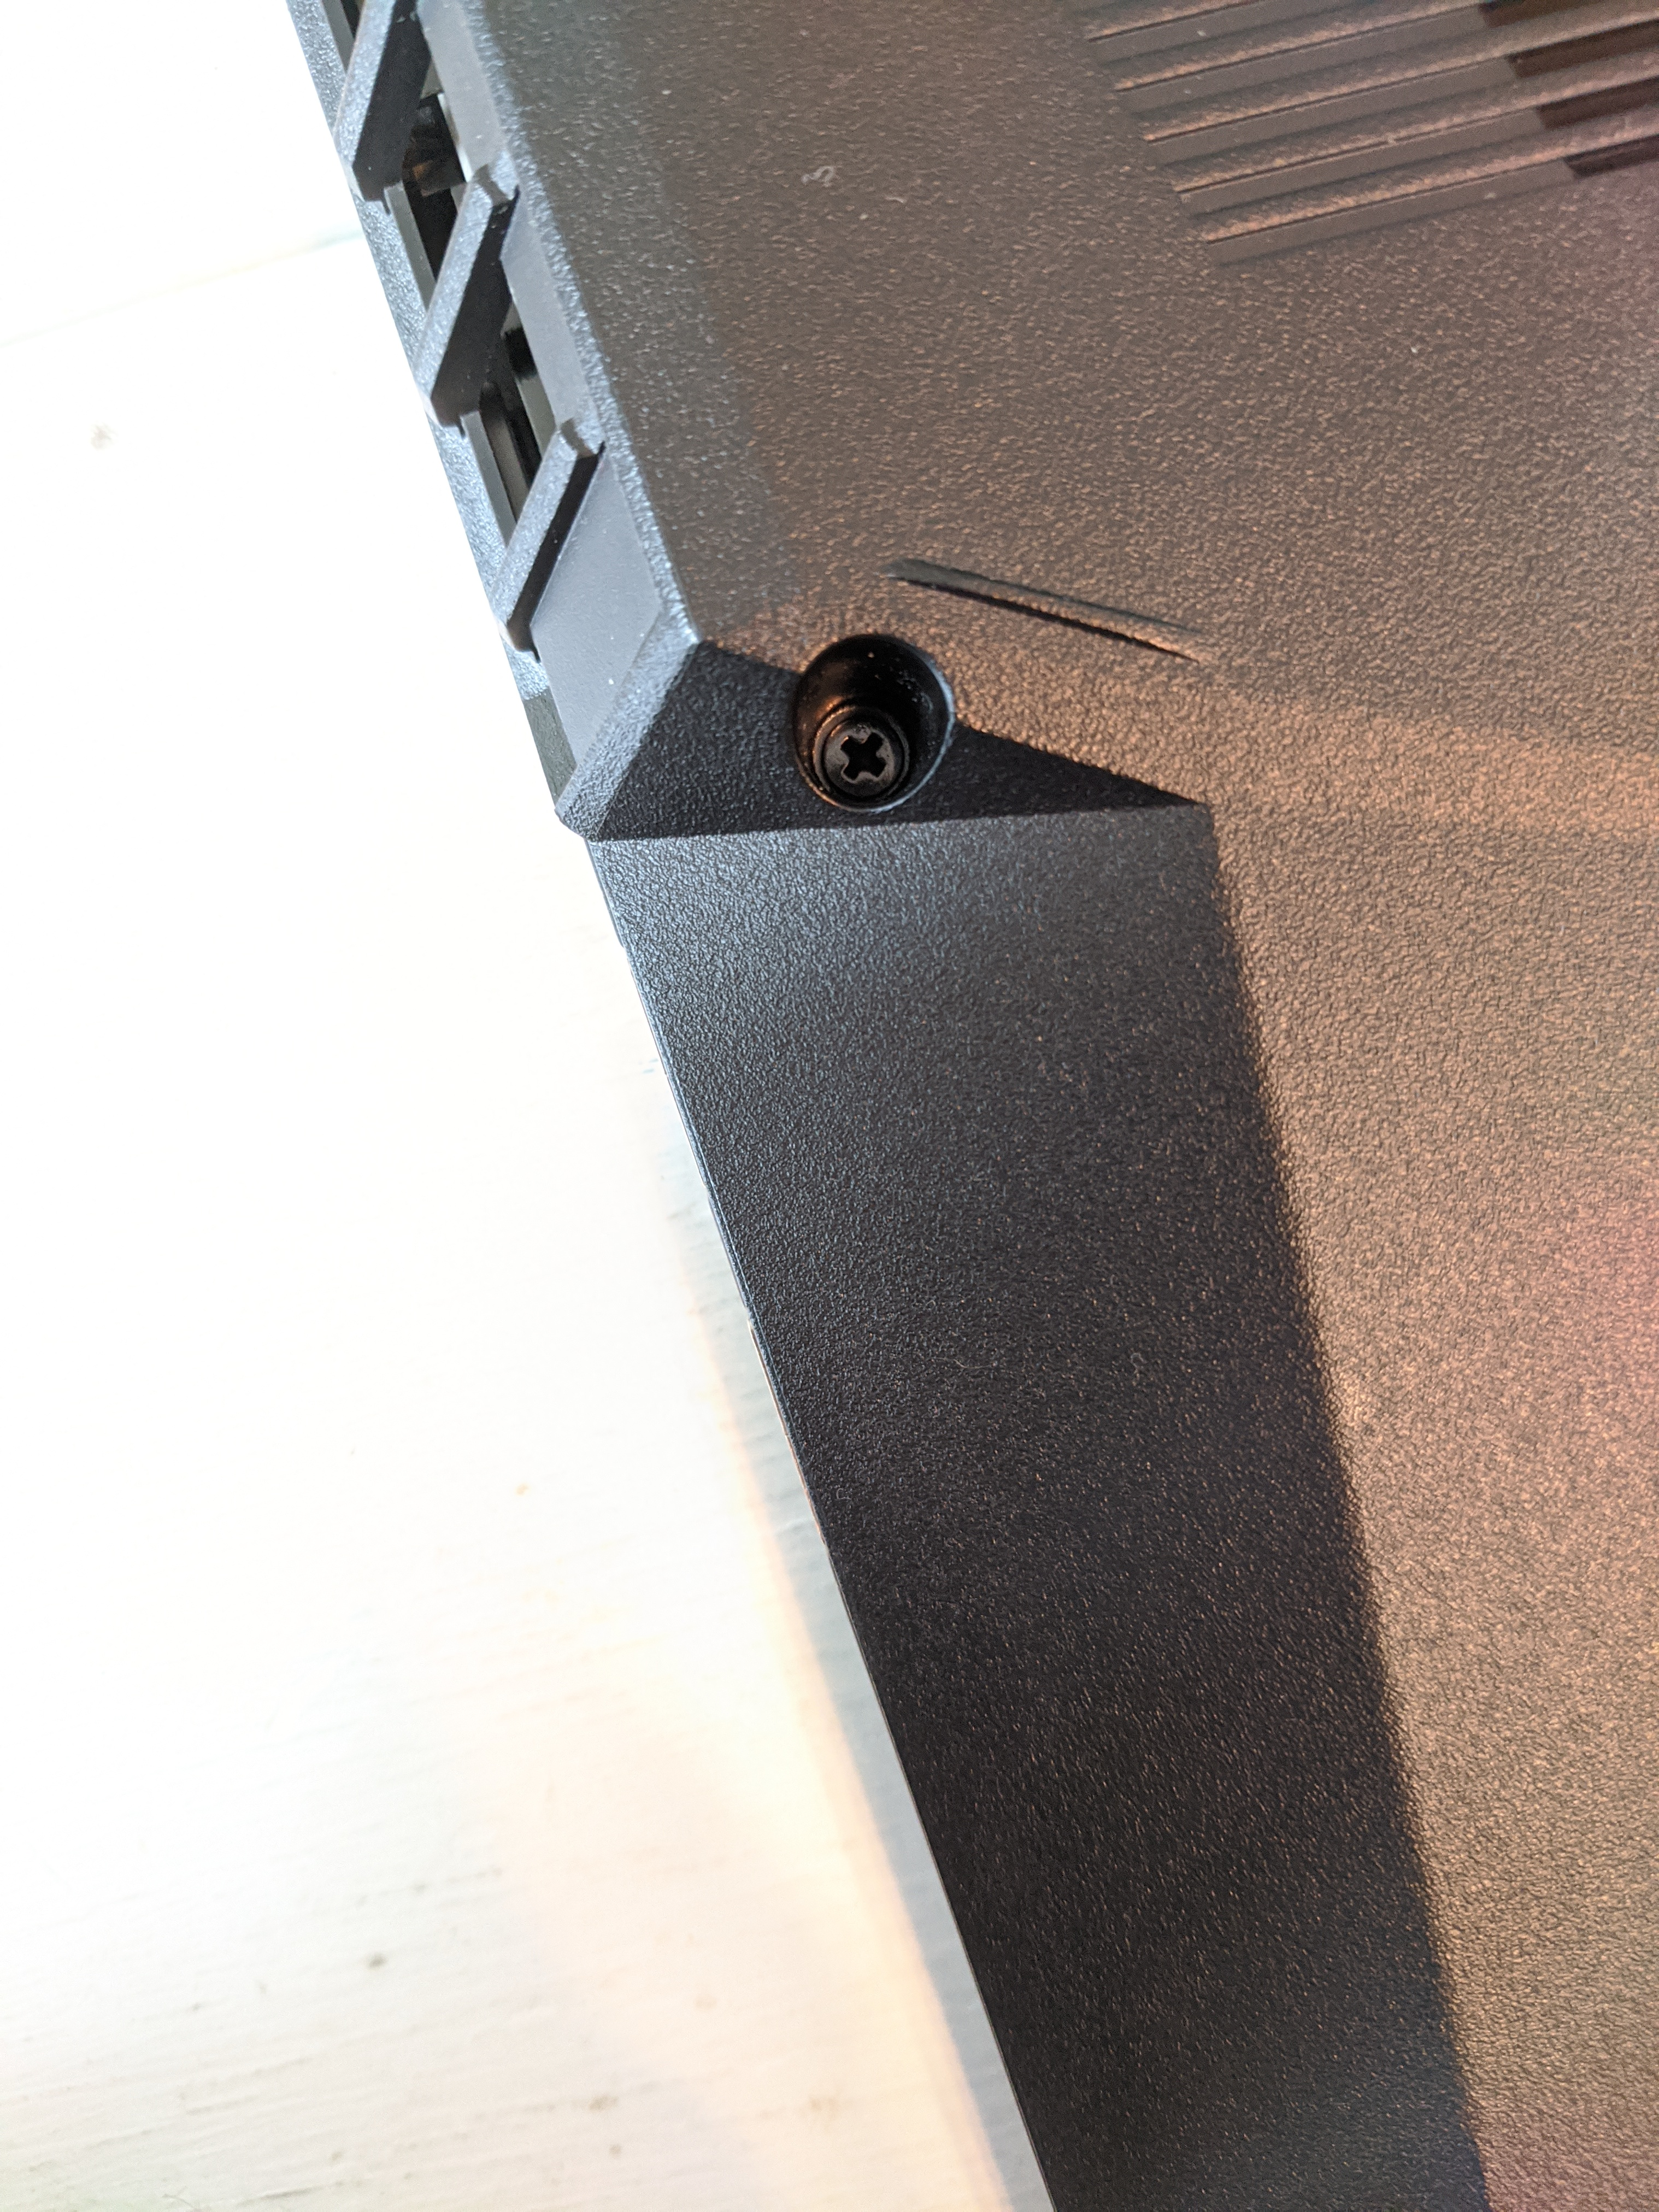cross_recessed_screw: (735, 214, 843, 331), (723, 1803, 823, 1881)
